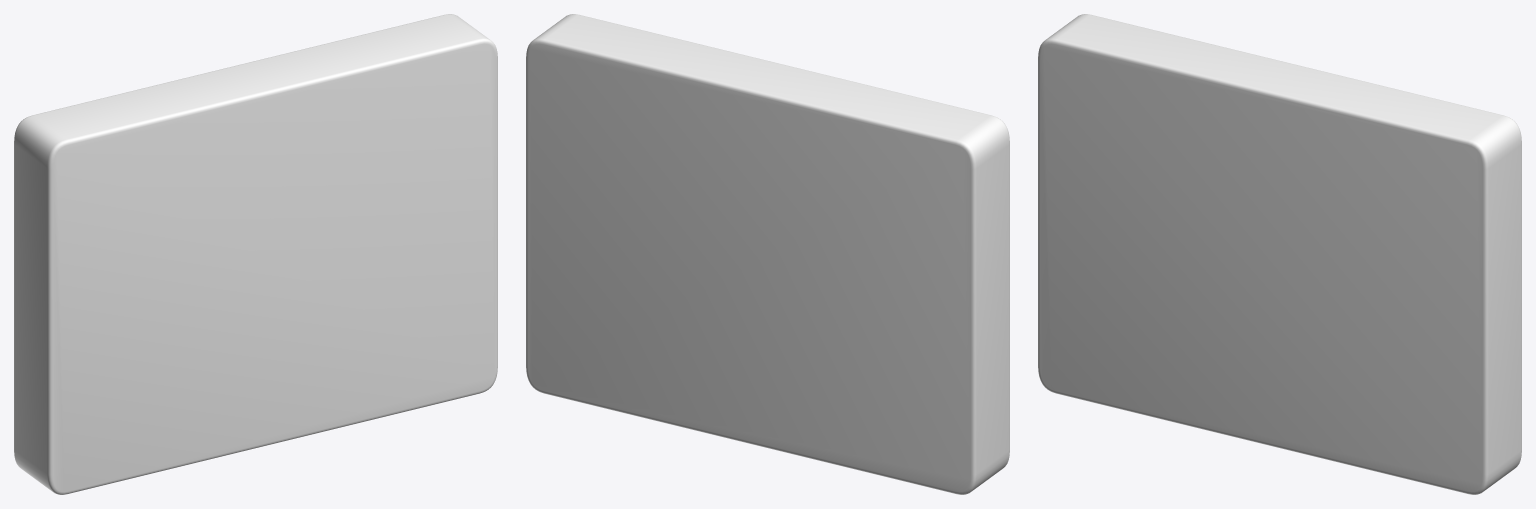
Rendered from 海绵垫.glb.
3 views of the same model, side by side, from view 1: azimuth 30°, elevation 25°; view 2: azimuth 150°, elevation 25°; view 3: azimuth 330°, elevation 25° (orthographic).
Parts seen in each view (by area): view 1: 海绵垫; view 2: 海绵垫; view 3: 海绵垫.
Boxes of the visible parts, x1=… form: 海绵垫: x1=14, y1=14, x2=497, y2=494; 海绵垫: x1=526, y1=14, x2=1009, y2=494; 海绵垫: x1=1038, y1=14, x2=1521, y2=494.
Bounding box in the file's own units: 0.0563 × 0.0424 × 0.00799.
1 material, 1 textured.
